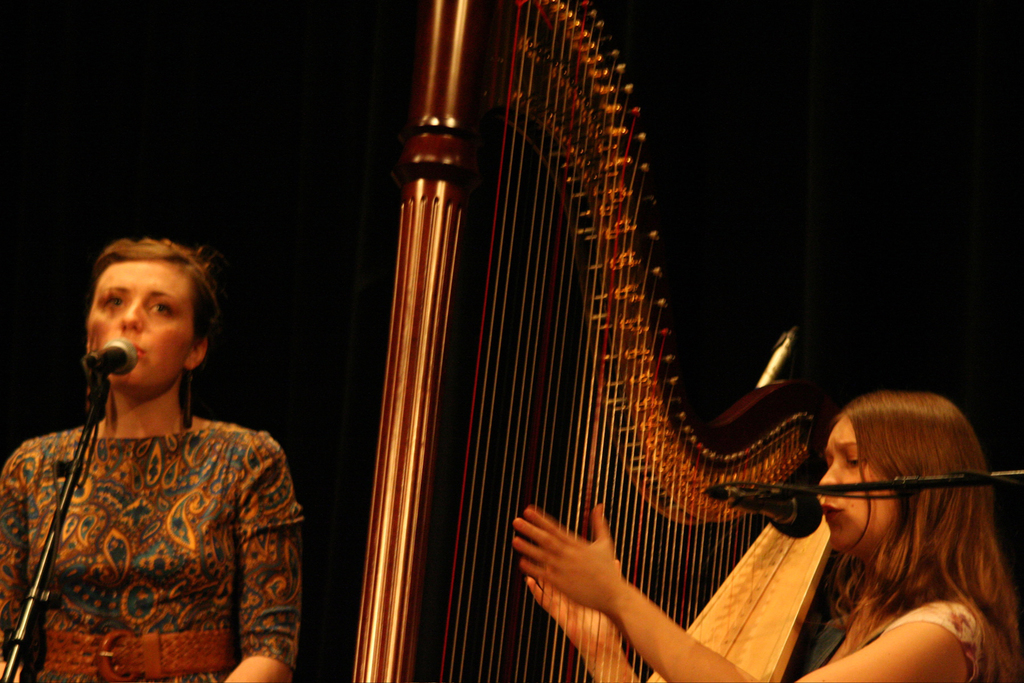Person: (512, 389, 1024, 683), (0, 235, 305, 683)
